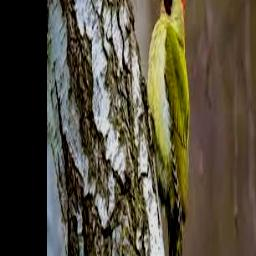Woodpecker: (140, 0, 191, 256)
